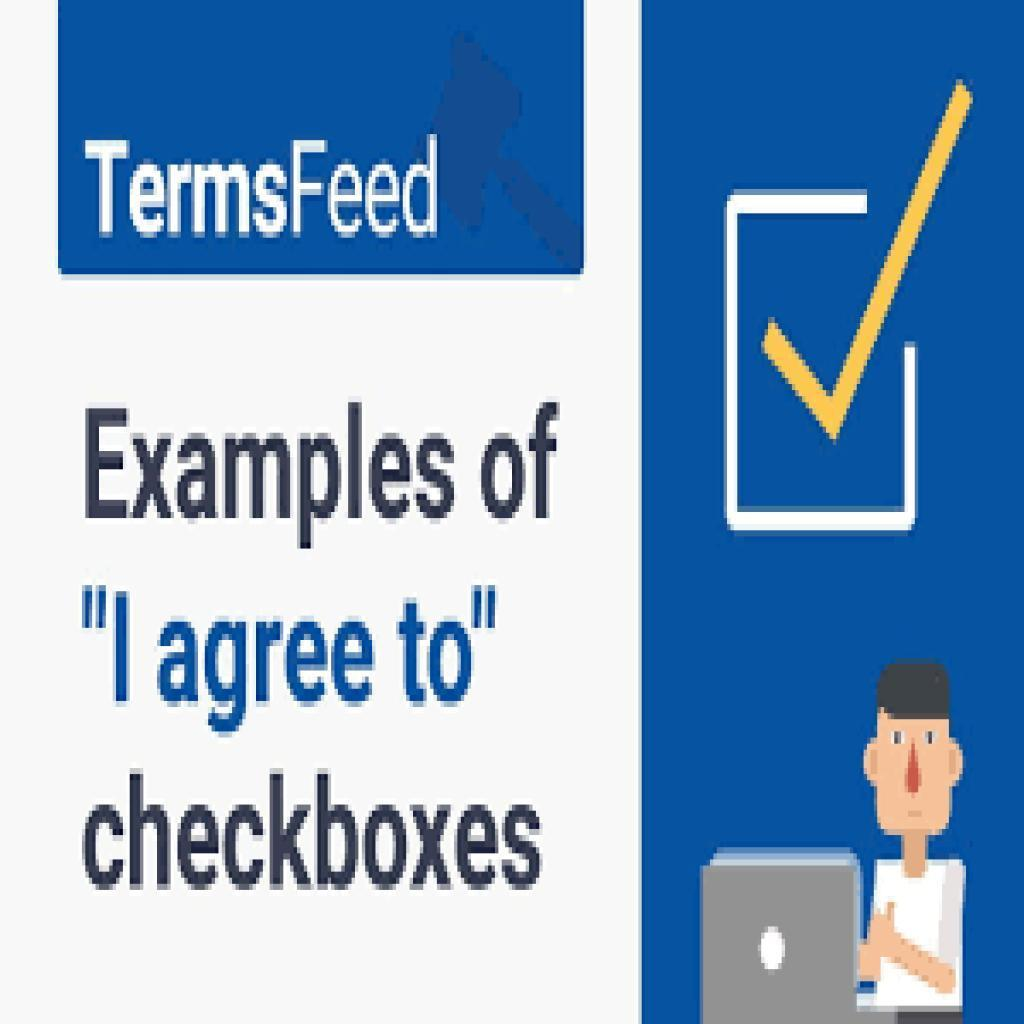checkbox: (724, 79, 974, 537)
